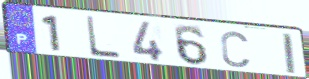1: (40, 14, 63, 53)
4: (130, 20, 166, 63)
6: (172, 24, 210, 67)
C: (219, 29, 252, 69)
I: (280, 32, 298, 75)
L: (84, 15, 122, 60)
